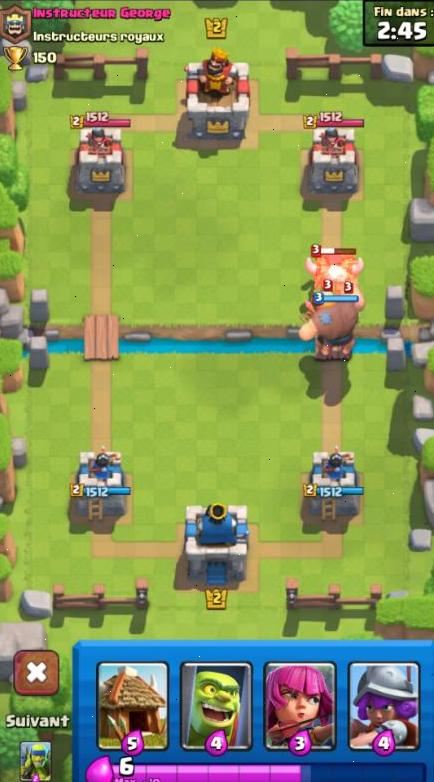enemy_goblin_hut: (302, 241, 367, 294)
player_giant: (297, 287, 367, 364)
